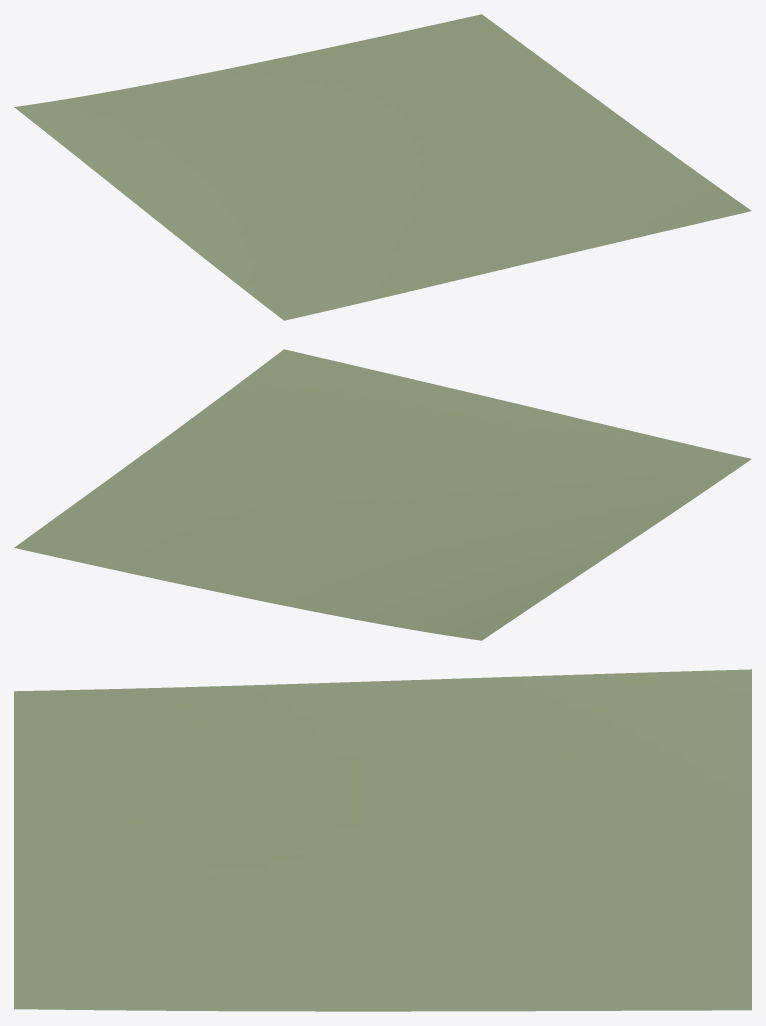
File: expanse-31-27.glb
The picture shows the model from 3 angles, top to bottom: view 1: azimuth 30°, elevation 25°; view 2: azimuth 150°, elevation 25°; view 3: azimuth 270°, elevation 25°; orthographic projection. The views are drawn at different scales.
Visible parts, largest first — view 1: expanse-31-27; view 2: expanse-31-27; view 3: expanse-31-27.
Part boxes in pixels (x1,y1,x2,y2): expanse-31-27: [14, 14, 751, 320]; expanse-31-27: [14, 349, 751, 640]; expanse-31-27: [14, 669, 751, 1011].
Bounding box in the file's own units: 256 × 11.55 × 256.
